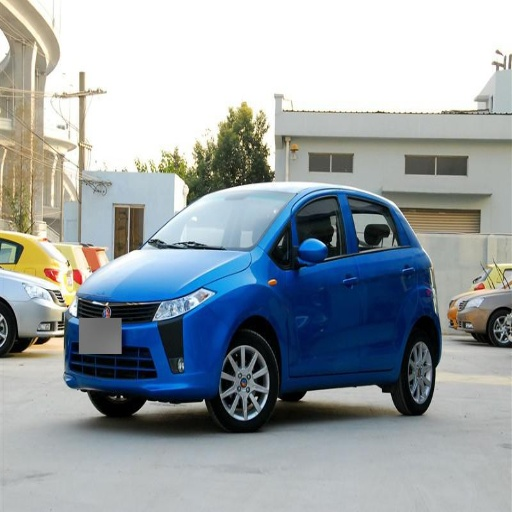front_bumper: (65, 288, 223, 398)
front_glass: (148, 193, 286, 250)
front_left_door: (282, 192, 364, 375)
